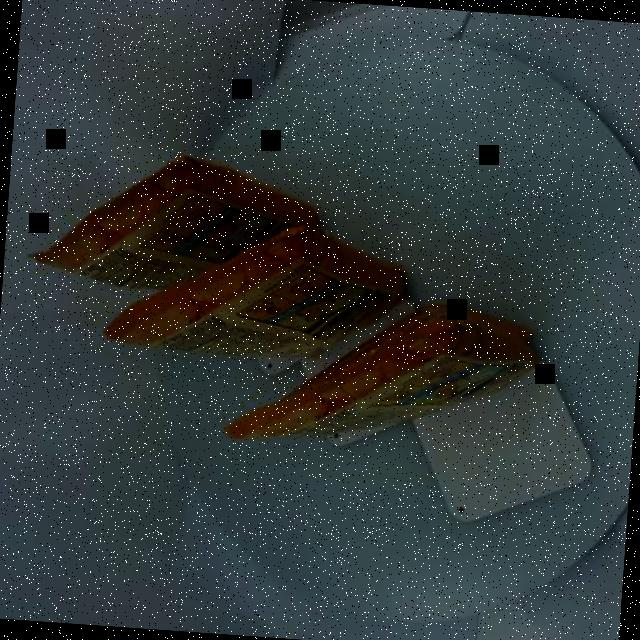snack_bag: (0, 124, 568, 487)
